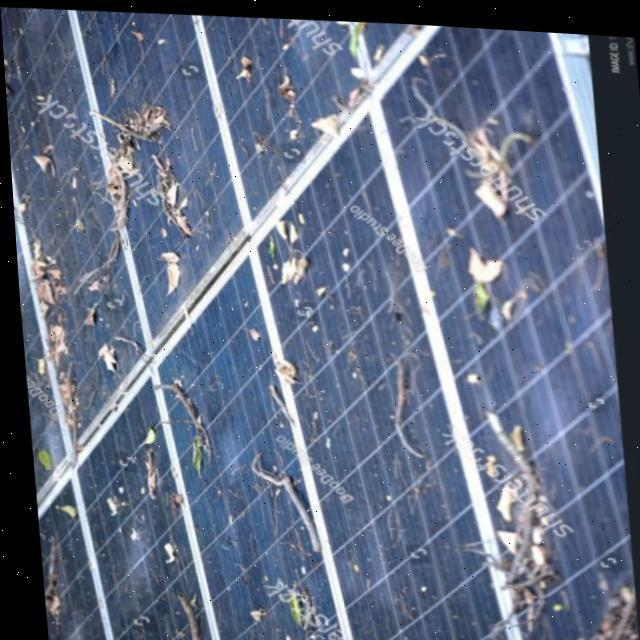Anomaly Solar Panel: (0, 6, 629, 640)
Surface Contaminant: (424, 65, 546, 353), (216, 332, 337, 619), (426, 398, 574, 630), (116, 338, 221, 640), (55, 83, 212, 266), (13, 239, 105, 443), (252, 144, 322, 288), (225, 12, 320, 115), (28, 486, 84, 637), (0, 6, 36, 139), (574, 570, 634, 640), (177, 127, 203, 136)
